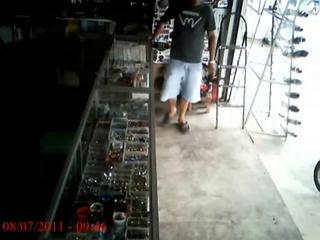Normal: (149, 0, 218, 132)
